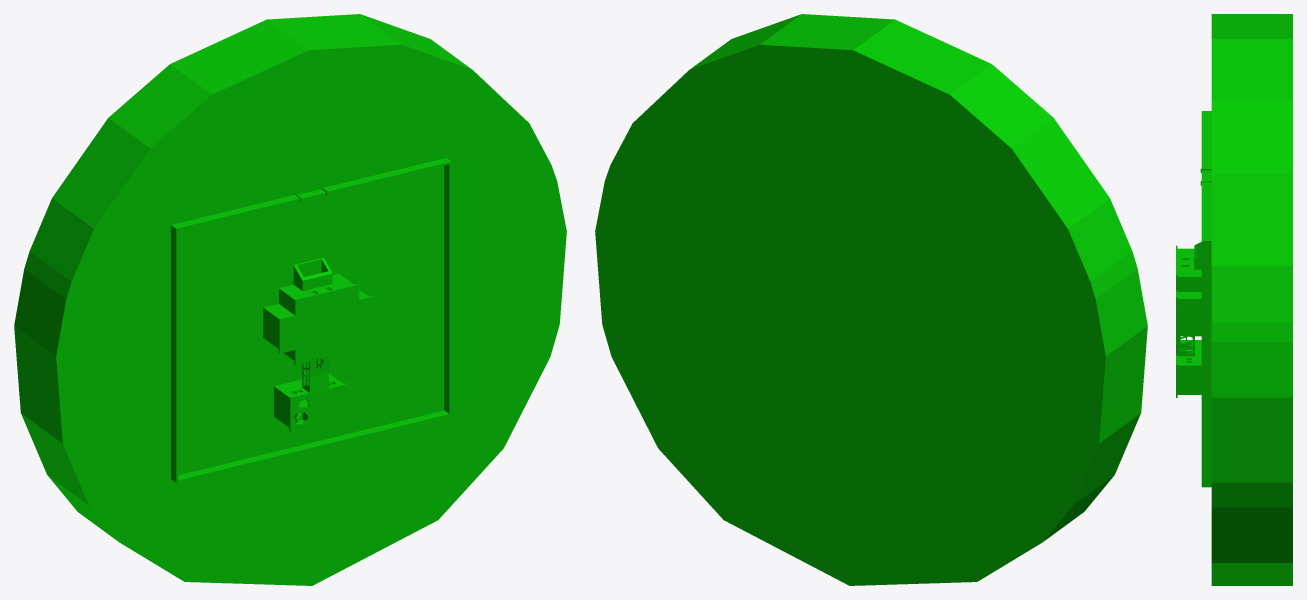
File: lab_0002_col.obj
3 views of the same model, side by side, from view 1: azimuth 30°, elevation 25°; view 2: azimuth 150°, elevation 25°; view 3: azimuth 270°, elevation 25° (orthographic). The views are drawn at different scales.
Visible parts, largest first — view 1: COLLISION.005_Cube.030; view 2: COLLISION.005_Cube.030; view 3: COLLISION.005_Cube.030.
Part boxes in pixels (bbox=[...]): COLLISION.005_Cube.030: bbox=[14, 14, 566, 585]; COLLISION.005_Cube.030: bbox=[595, 14, 1147, 585]; COLLISION.005_Cube.030: bbox=[1176, 14, 1292, 585].
Size of the model in its own units: 2893 by 2905 by 592.
